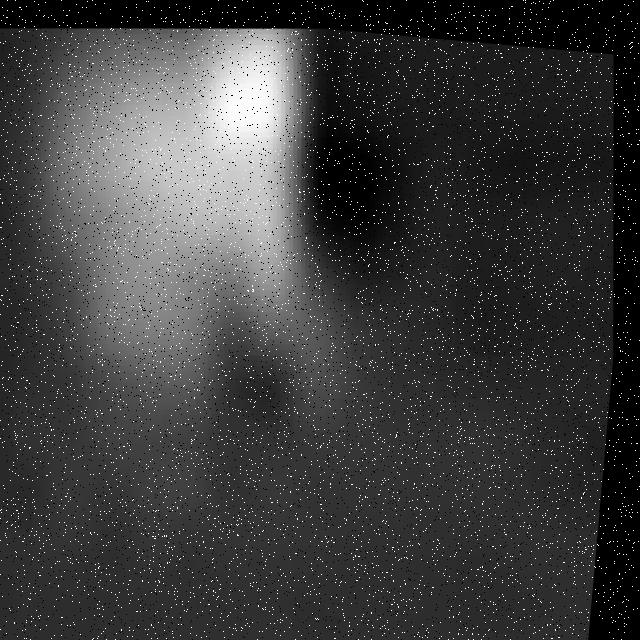person: (41, 6, 381, 454)
